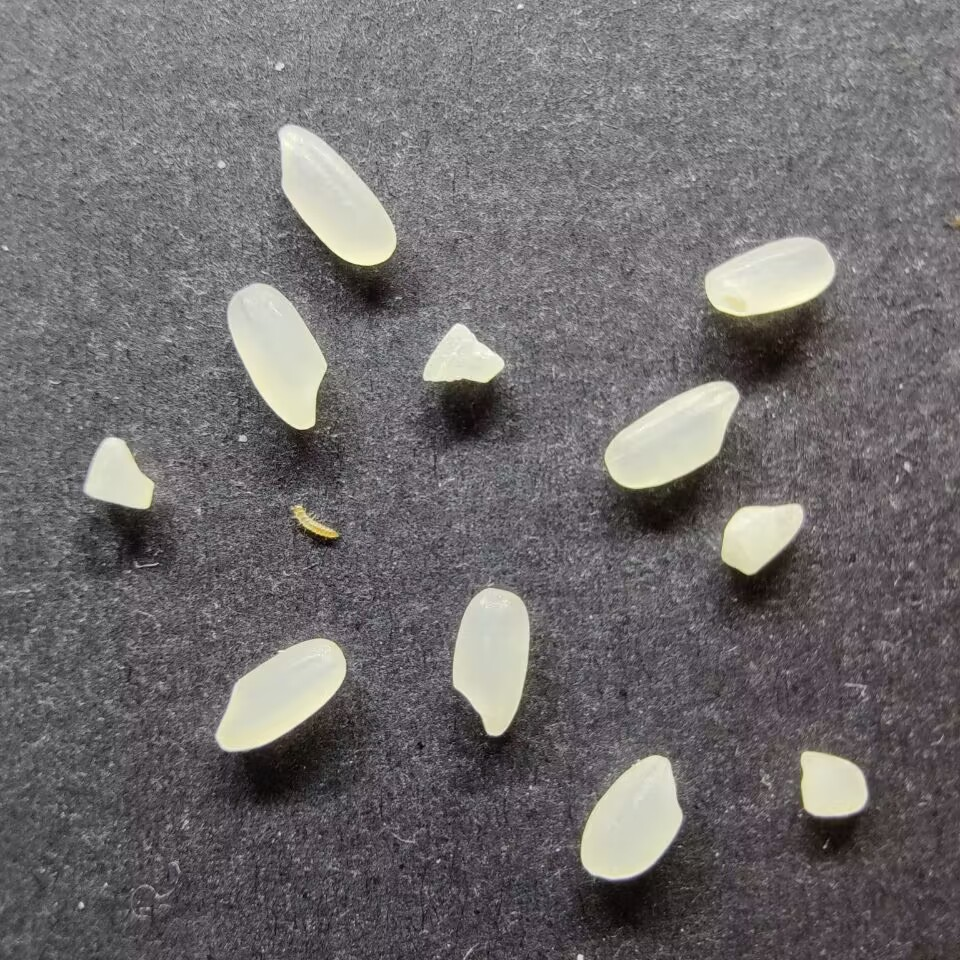broken: (719, 502, 804, 575), (83, 436, 154, 509), (421, 322, 505, 383), (797, 749, 869, 817)
others: (289, 501, 341, 542)
rice: (277, 124, 397, 267), (214, 638, 346, 752), (226, 282, 327, 430), (603, 380, 740, 489), (579, 754, 682, 880), (451, 587, 530, 737), (703, 236, 836, 316)
